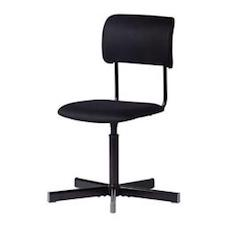chair: (39, 6, 187, 226)
